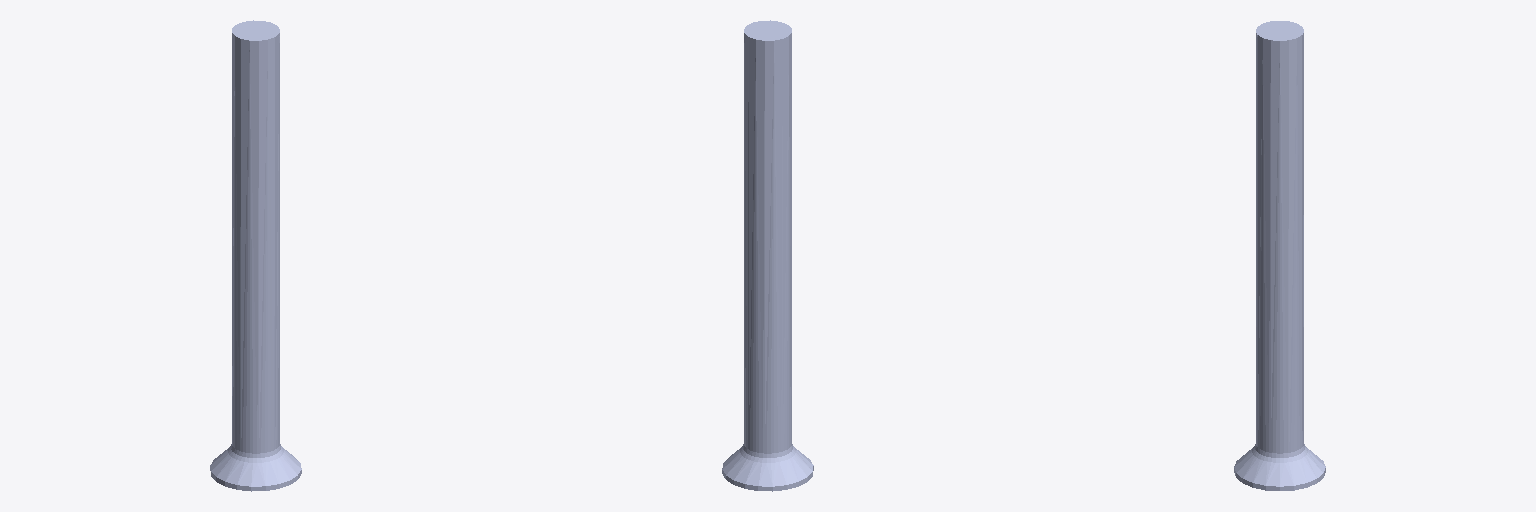
The robot description file, URDF, robot "104322.SLDPRT":
<?xml version="1.0" encoding="utf-8"?>
<!-- This URDF was automatically created by SolidWorks to URDF Exporter! Originally created by [author] ([email redacted]) 
     Commit Version: 1.5.1-0-g916b5db  Build Version: 1.5.7152.31018
     For more information, please see http://wiki.ros.org/sw_urdf_exporter -->
<robot
  name="104322.SLDPRT">
  <link
    name="104322.SLDPRT">
    <inertial>
      <origin
        xyz="-8.2475E-20 7.5239E-20 0.028536"
        rpy="0 -1.5707963267949 0" />
      <mass
        value="0.0017863" />
      <inertia
        ixx="9.8797E-09"
        ixy="1.3179E-19"
        ixz="-1.3179E-19"
        iyy="5.862E-07"
        iyz="-2.29159999999999E-25"
        izz="5.862E-07" />
    </inertial>
    <visual>
      <origin
        xyz="0 0 0"
        rpy="0 -1.5707963267949 0" />
      <geometry>
        <mesh
          filename="package://object_description/chair_meshes/104322.SLDPRT.STL" />
      </geometry>
      <material
        name="">
        <color
          rgba="0.79216 0.81961 0.93333 1" />
        <texture
          filename="package://object_description/textures/" />
      </material>
    </visual>
    <collision>
      <origin
        xyz="0 0 0"
        rpy="0 -1.5707963267949 0" />
      <geometry>
        <mesh
          filename="package://object_description/chair_meshes/104322.SLDPRT.STL" />
      </geometry>
    </collision>
  </link>
	<gazebo reference="104322.SLDPRT">
    <material>Gazebo/Black</material>
    <kp>100000.0</kp>
    <kd>1.0</kd>
    <mu1>100000</mu1>
    <mu2>100000</mu2>
    <maxVel>0</maxVel>
    <minDepth>0.00</minDepth>
  </gazebo>

</robot>

--- What the picture shows (computed from the rendered views, not written in the file) ---
3 views of the same robot in one strip: view 1: azimuth 30°, elevation 25°; view 2: azimuth 150°, elevation 25°; view 3: azimuth 270°, elevation 25° (orthographic).
Robot: 104322.SLDPRT — 1 links, 0 joints (none); root link 104322.SLDPRT; default pose: all joints at 0.
Visible links, largest first — view 1: 104322.SLDPRT; view 2: 104322.SLDPRT; view 3: 104322.SLDPRT.
Link boxes in pixels (x1,y1,x2,y2): 104322.SLDPRT: (210,20,301,491); 104322.SLDPRT: (722,20,813,491); 104322.SLDPRT: (1234,21,1325,490).
Bounding box of the posed robot: 0.0113 × 0.0113 × 0.06 m (x, y, z).
Meshes: 1 distinct files referenced, 1 mesh visuals loaded (1 binary STL).